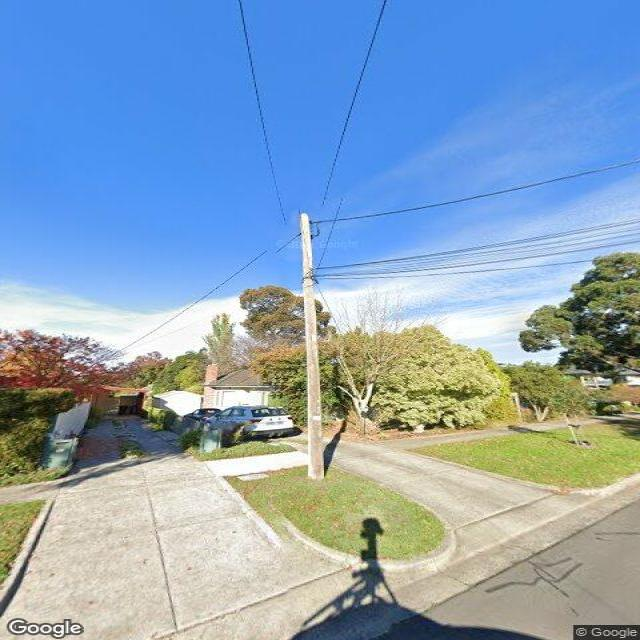timber-pole: (300, 213, 325, 481)
